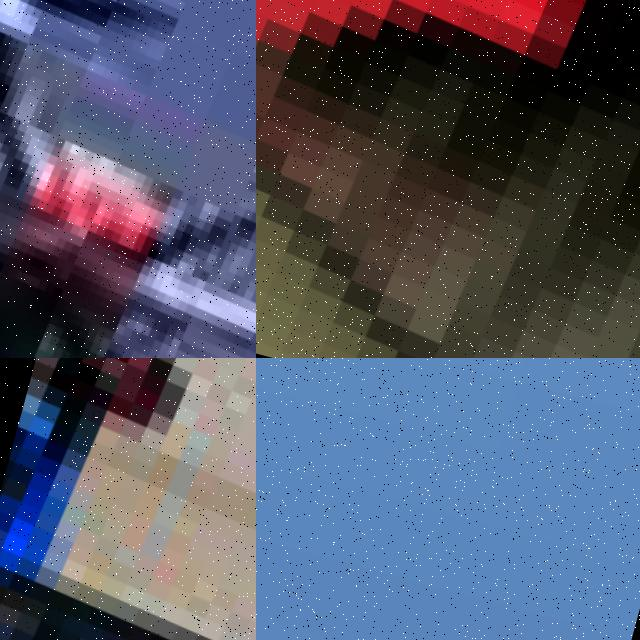drone: (256, 0, 640, 358), (0, 0, 256, 358), (0, 358, 256, 640)
